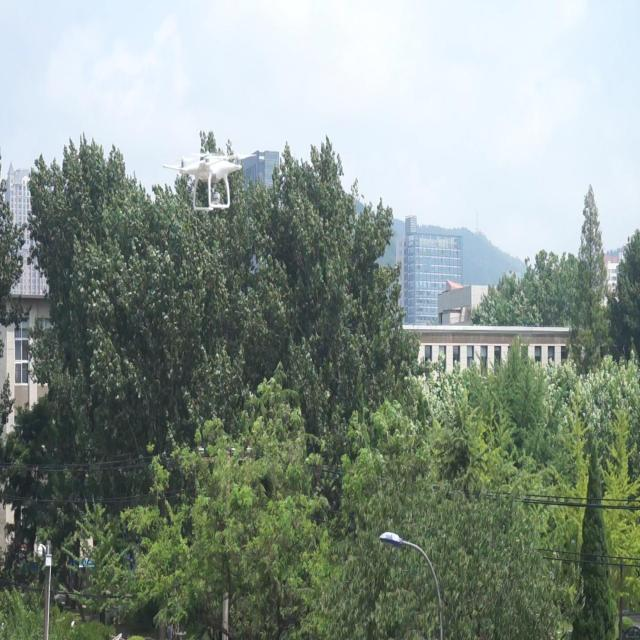UAV: (163, 150, 257, 212)
